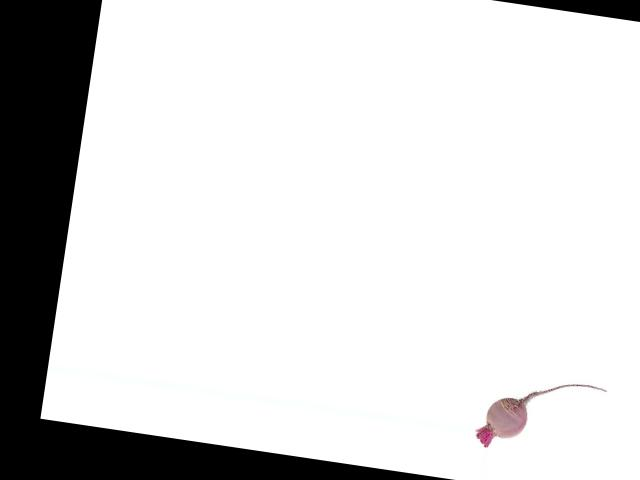beet: (474, 369, 608, 464)
